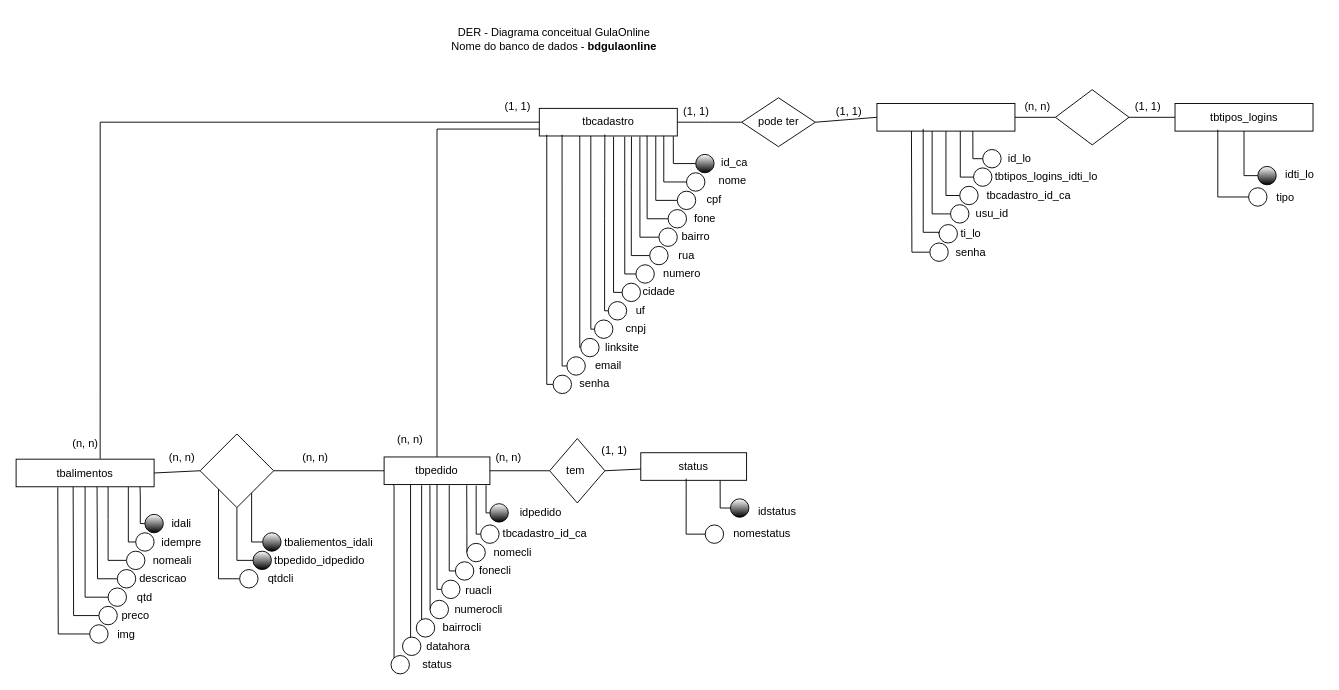
This 1339x690 diagram has some shape labels left out. Each missing label, with the centre of its shape:
"contém" belongs at pixel 1092 117.
"gera" belongs at pixel 236 470.
"tblogins" belongs at pixel 945 117.
